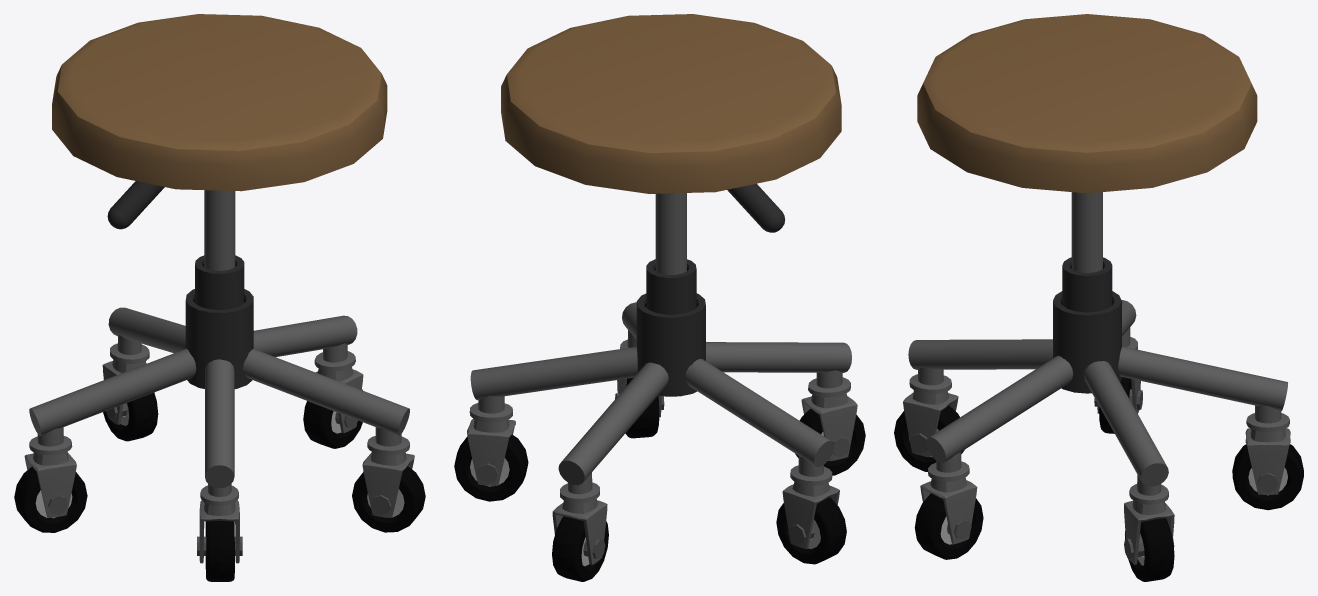
File: WheelyChair.fbx
The picture shows the model from 3 angles, left to right: view 1: azimuth 30°, elevation 25°; view 2: azimuth 150°, elevation 25°; view 3: azimuth 270°, elevation 25°; orthographic projection.
Parts seen in each view (by area): view 1: Top, Base; view 2: Top, Base; view 3: Top, Base.
Boxes of the visible parts, x1,y1,x2,y2 form: Top: (52, 14, 387, 270); Base: (14, 255, 425, 581); Top: (501, 14, 841, 274); Base: (454, 259, 865, 581); Top: (917, 14, 1257, 272); Base: (894, 257, 1303, 581).
Size of the model in its own units: 2.47 by 2.76 by 2.4.
